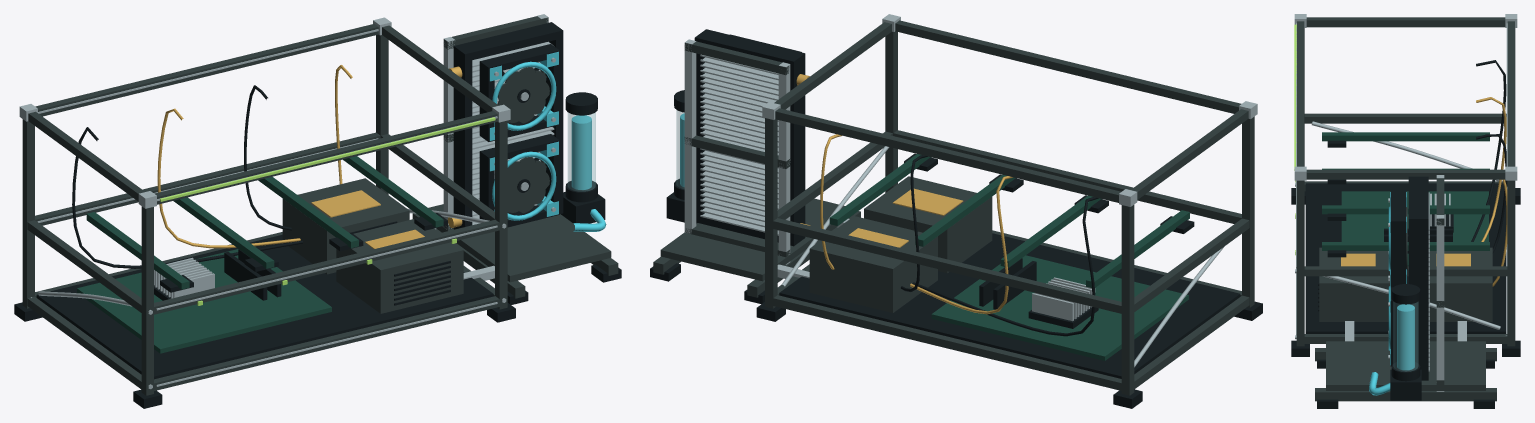
File: rig-4-frame-liquid.glb
3 views of the same model, side by side, from view 1: azimuth 30°, elevation 25°; view 2: azimuth 150°, elevation 25°; view 3: azimuth 270°, elevation 25° (orthographic). The views are drawn at different scales.
Visible parts, largest first — view 1: Anodized graphite (×4), Rubber and ABS (×5), Circuit board, Brushed aluminium (×2), Coolant blue (×3), cooling-liquid, Contacts, rig-4-frame-liquid, slot-cable-1, slot-cable-2, slot-cable-3; view 2: Anodized graphite (×2), Rubber and ABS (×3), Brushed aluminium (×2), Circuit board, Contacts, slot-cable-1, slot-cable-2, cooling-liquid; view 3: Anodized graphite (×2), Rubber and ABS (×5), Circuit board, Brushed aluminium (×2), cooling-liquid, Coolant blue (×2), Contacts, slot-cable-1, slot-cable-2, slot-cable-3, rig-4-frame-liquid, slot-cable-4.
Boxes of the visible parts, x1=… form: Anodized graphite (×4): x1=22, y1=16, x2=618, y2=395; Rubber and ABS (×5): x1=14, y1=22, x2=621, y2=408; Circuit board: x1=77, y1=156, x2=443, y2=353; Brushed aluminium (×2): x1=19, y1=14, x2=554, y2=389; Coolant blue (×3): x1=489, y1=51, x2=606, y2=231; cooling-liquid: x1=568, y1=112, x2=595, y2=191; Contacts: x1=311, y1=190, x2=424, y2=248; rig-4-frame-liquid: x1=160, y1=117, x2=495, y2=201; slot-cable-1: x1=72, y1=127, x2=303, y2=268; slot-cable-2: x1=157, y1=108, x2=300, y2=248; slot-cable-3: x1=244, y1=85, x2=291, y2=230; Anodized graphite (×2): x1=653, y1=20, x2=1254, y2=395; Rubber and ABS (×3): x1=650, y1=29, x2=1262, y2=408; Brushed aluminium (×2): x1=684, y1=14, x2=1257, y2=367; Circuit board: x1=829, y1=154, x2=1189, y2=360; Contacts: x1=848, y1=188, x2=963, y2=247; slot-cable-1: x1=912, y1=197, x2=1098, y2=336; slot-cable-2: x1=910, y1=176, x2=1012, y2=314; cooling-liquid: x1=676, y1=110, x2=684, y2=188; Anodized graphite (×2): x1=1296, y1=17, x2=1515, y2=401; Rubber and ABS (×5): x1=1291, y1=140, x2=1520, y2=408; Circuit board: x1=1322, y1=132, x2=1489, y2=266; Brushed aluminium (×2): x1=1294, y1=14, x2=1517, y2=391; cooling-liquid: x1=1393, y1=302, x2=1418, y2=371; Coolant blue (×2): x1=1369, y1=192, x2=1414, y2=395; Contacts: x1=1341, y1=253, x2=1470, y2=266; slot-cable-1: x1=1471, y1=60, x2=1506, y2=241; slot-cable-2: x1=1476, y1=97, x2=1506, y2=241; slot-cable-3: x1=1476, y1=134, x2=1507, y2=253; rig-4-frame-liquid: x1=1294, y1=24, x2=1296, y2=170; slot-cable-4: x1=1492, y1=179, x2=1507, y2=286.
Bounding box in the file's own units: 8.43 × 3.32 × 3.66.
